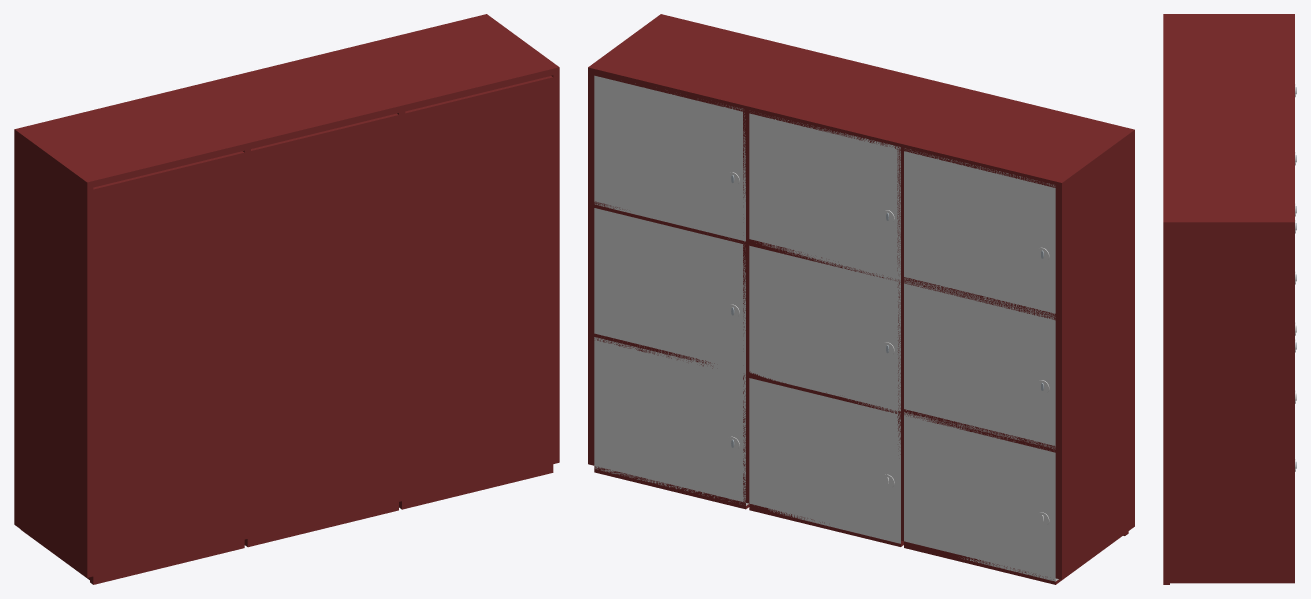
File: Loker.fbx
The picture shows the model from 3 angles, left to right: view 1: azimuth 30°, elevation 25°; view 2: azimuth 150°, elevation 25°; view 3: azimuth 270°, elevation 25°; orthographic projection. The views are drawn at different scales.
Parts seen in each view (by area): view 1: Loker; view 2: Loker, Cube.015, Cube.026, Cube.006, Cube.013, Cube.004, Cube.003, Cube.017, Cube.022, Cube.024; view 3: Loker.
Boxes of the visible parts, bbox=[...] form: Loker: bbox=[14, 14, 559, 584]; Loker: bbox=[588, 14, 1134, 584]; Cube.015: bbox=[749, 245, 900, 411]; Cube.026: bbox=[594, 337, 748, 505]; Cube.006: bbox=[904, 280, 1055, 449]; Cube.013: bbox=[749, 113, 900, 279]; Cube.004: bbox=[904, 148, 1055, 316]; Cube.003: bbox=[904, 412, 1058, 581]; Cube.017: bbox=[749, 378, 900, 543]; Cube.022: bbox=[594, 75, 745, 241]; Cube.024: bbox=[594, 208, 745, 373]; Loker: bbox=[1163, 14, 1294, 584].
Size of the model in its own units: 0.5076 by 1.88 by 1.54.
